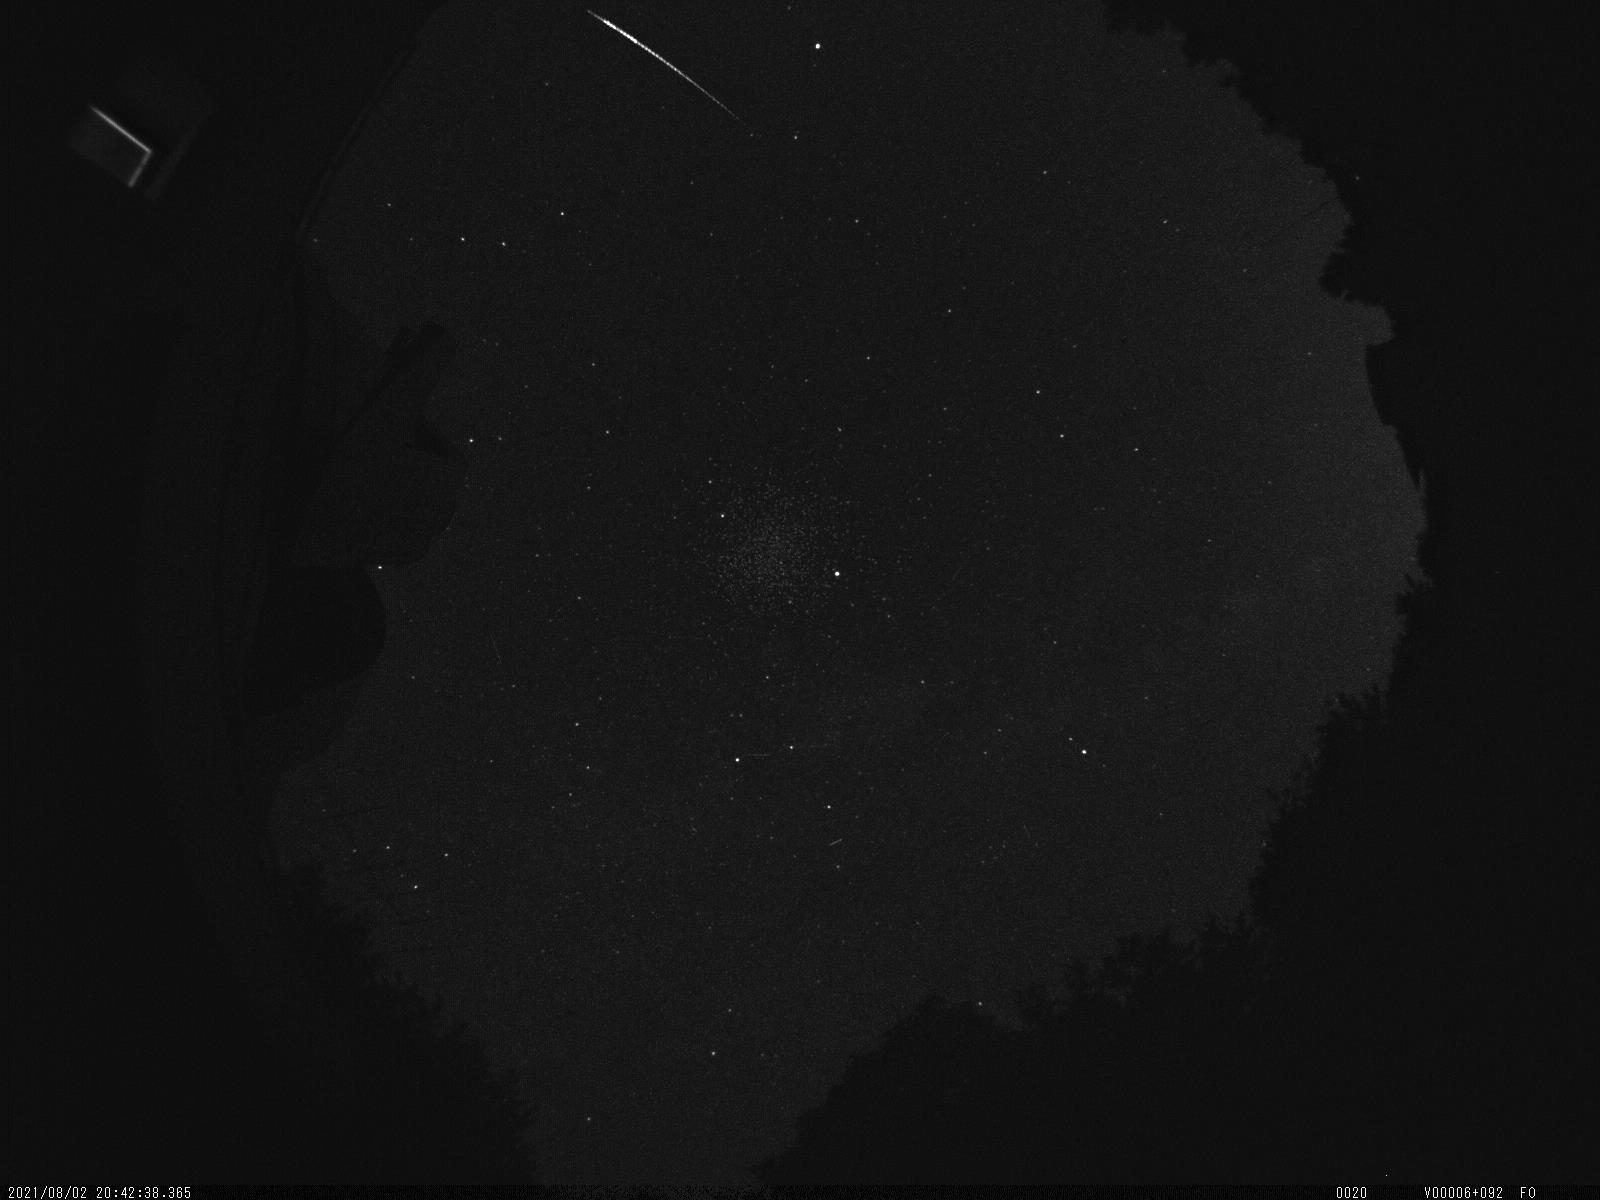Meteor: (582, 4, 760, 150)
